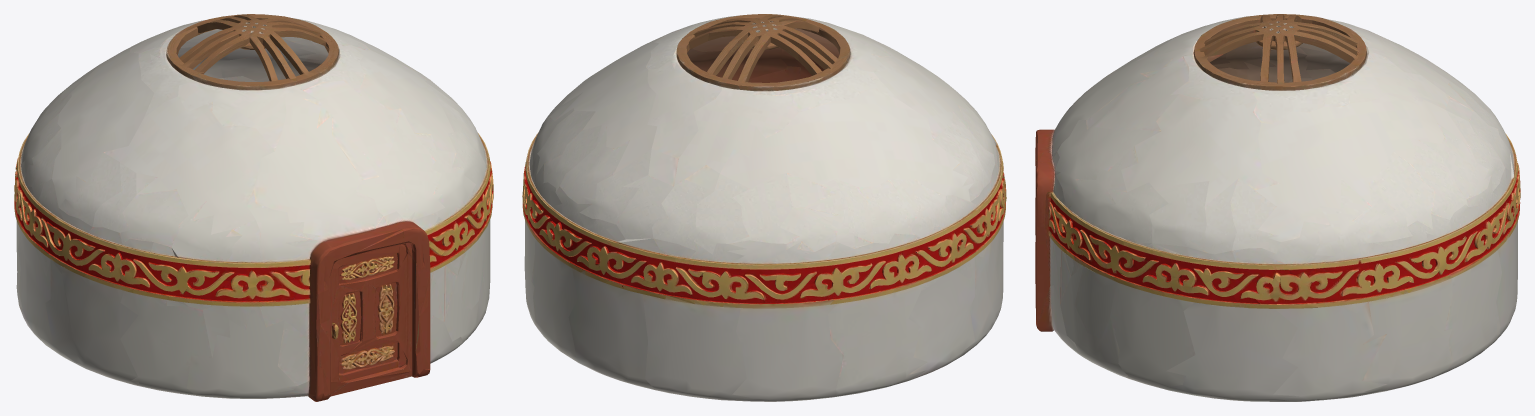
File: yurt.glb
The picture shows the model from 3 angles, left to right: view 1: azimuth 30°, elevation 25°; view 2: azimuth 150°, elevation 25°; view 3: azimuth 270°, elevation 25°; orthographic projection.
Visible parts, largest first — view 1: output_unwrapped; view 2: output_unwrapped; view 3: output_unwrapped.
Part boxes in pixels (bbox=[...]): output_unwrapped: bbox=[14, 14, 493, 401]; output_unwrapped: bbox=[522, 14, 1006, 401]; output_unwrapped: bbox=[1035, 14, 1520, 401].
Size of the model in its own units: 1.99 by 1.26 by 2.
1 material, 1 textured.
